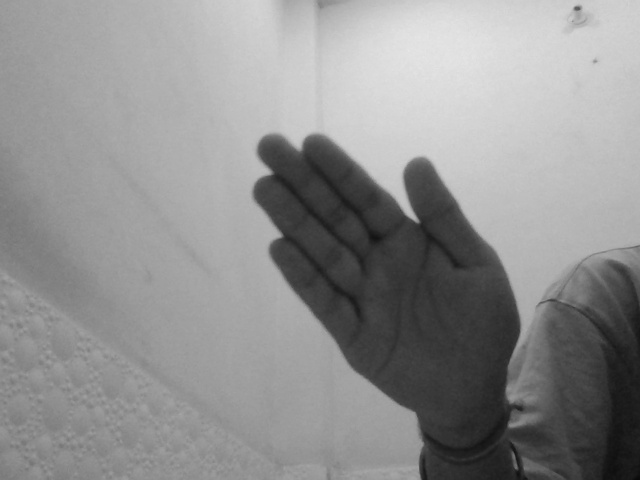Hello: (252, 132, 523, 430)
